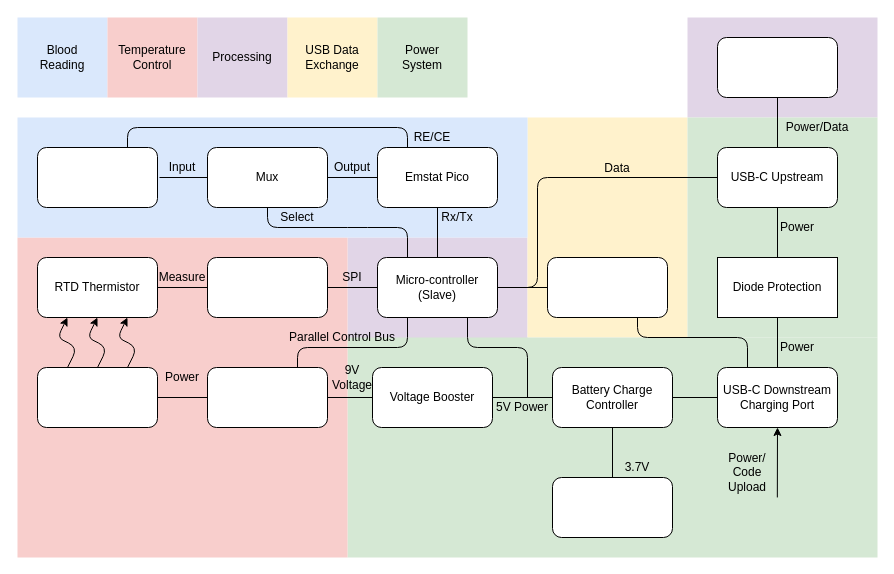
This 894x574 diagram has some shape labels left out. Each missing label, with the box of its shape:
Android Phone (Master): (716, 36, 838, 98)
Chip: (36, 146, 158, 208)
H-Bridge: (206, 366, 328, 428)
LiPo Battery: (552, 476, 672, 538)
Peltier Module: (36, 366, 158, 428)
Programming Data Switch: (546, 256, 668, 318)
RTD-to-Digital Converter: (206, 256, 328, 318)
